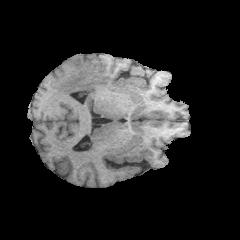glioma: (64, 61, 125, 93)
